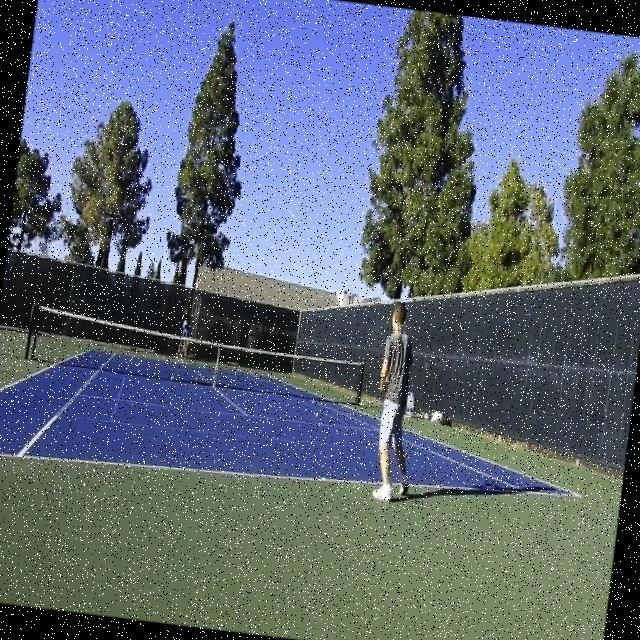court: (0, 338, 593, 527)
net: (22, 299, 370, 406)
player: (364, 300, 431, 503)
